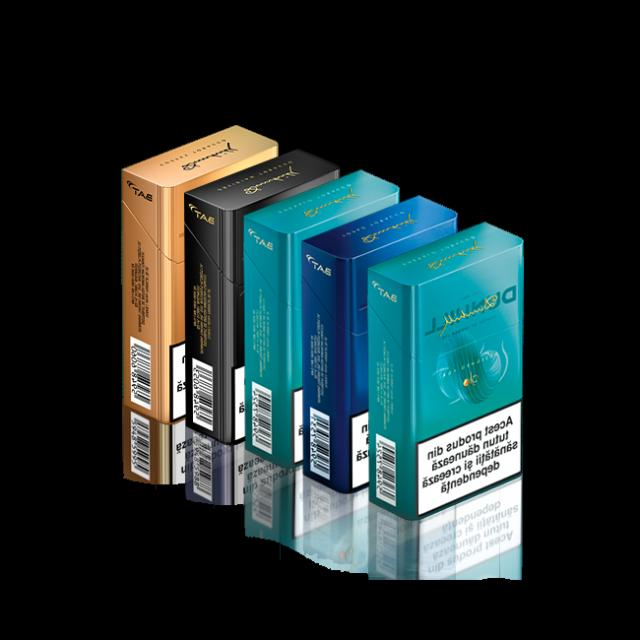dunhill: (117, 132, 276, 430), (369, 227, 529, 517), (306, 193, 460, 492), (182, 155, 328, 437), (245, 175, 391, 454)
